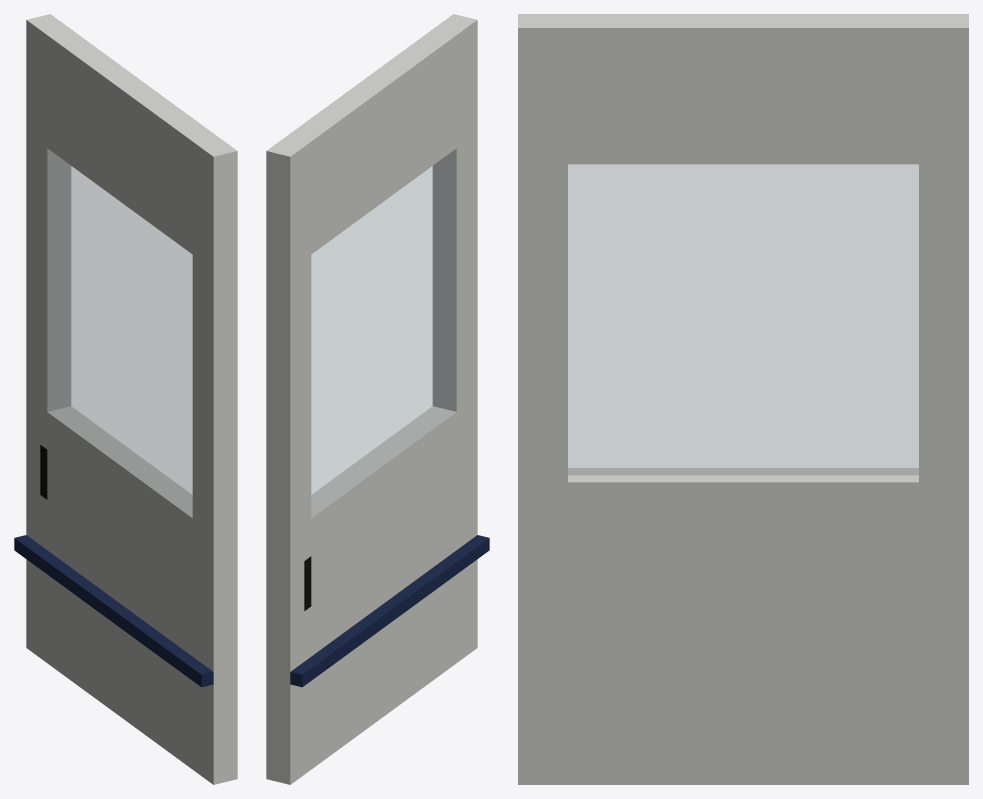
Rendered from riot_van_rear_door.glb.
3 views of the same model, side by side, from view 1: azimuth 30°, elevation 25°; view 2: azimuth 150°, elevation 25°; view 3: azimuth 270°, elevation 25° (orthographic). The views are drawn at different scales.
Visible parts, largest first — view 1: body:compound; view 2: body:compound; view 3: body:compound.
Boxes of the visible parts, x1=… form: body:compound: x1=14, y1=14, x2=237, y2=784; body:compound: x1=266, y1=14, x2=489, y2=784; body:compound: x1=518, y1=14, x2=968, y2=784.
Bounding box in the file's own units: 0.0938 × 1.56 × 0.8438.
